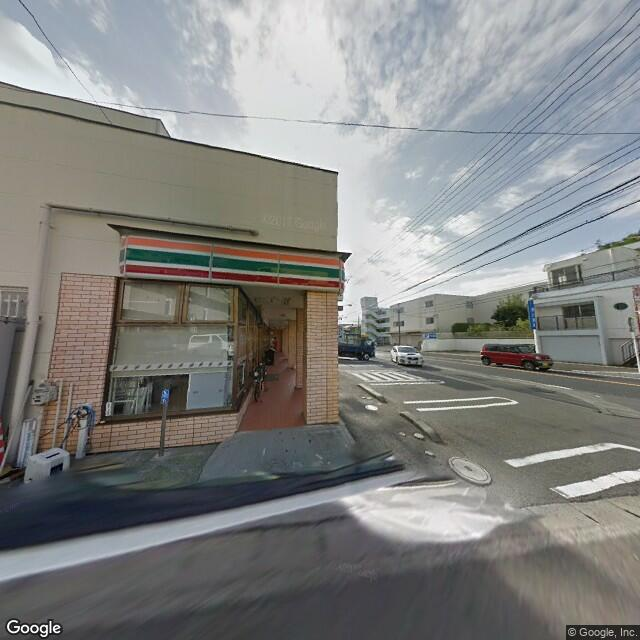7-eleven: (119, 232, 347, 299)
